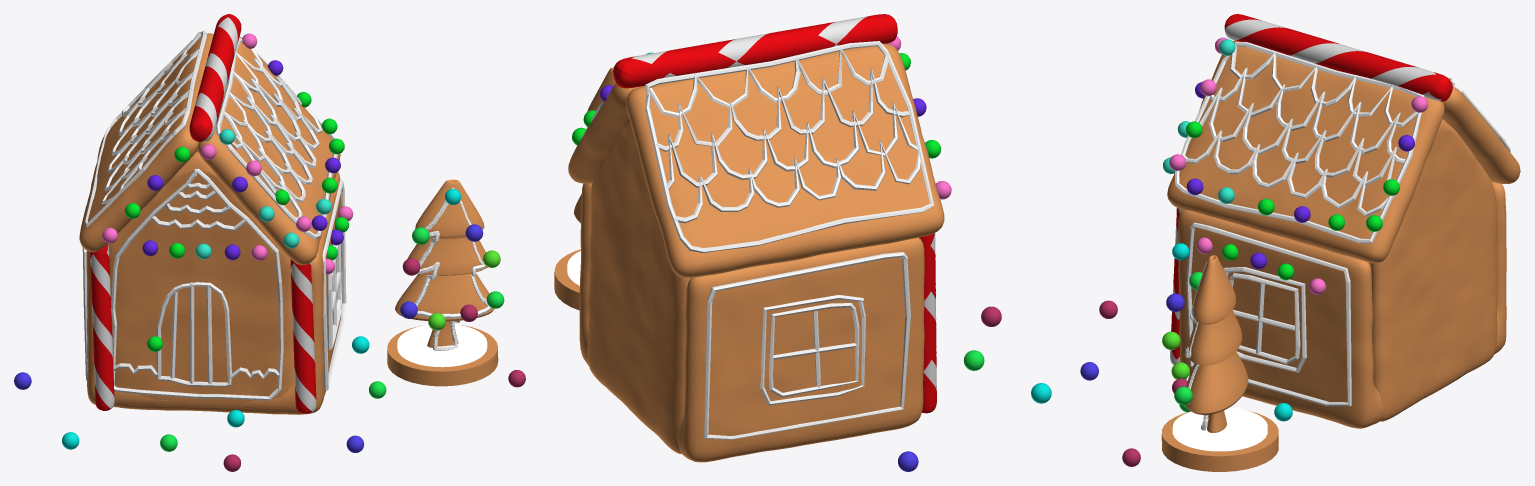
Rendered from ginger.glb.
3 renders of one model, left to right at view 1: azimuth 30°, elevation 25°; view 2: azimuth 150°, elevation 25°; view 3: azimuth 270°, elevation 25°, orthographic. The views are drawn at different scales.
Parts seen in each view (by area): view 1: Cube.005, Simple_GP_Layer.002, Vert, Cylinder, Cylinder.001, Cylinder.002, Cylinder.003, Cylinder.004, Roundcube.020, GP_Layer, Roundcube.007, Roundcube.004 (+5 smaller); view 2: Cube.005, Simple_GP_Layer.002, Cylinder, Cylinder.002, Cylinder.003, Roundcube.020, Vert; view 3: Cube.005, Simple_GP_Layer.002, Vert, Cylinder, Cylinder.003, Cylinder.004, Roundcube.020, Roundcube.004, Roundcube.007, Roundcube.023, Roundcube.010, Cylinder.001 (+5 smaller).
Part boxes in pixels (bbox=[...]): Cube.005: bbox=[79, 33, 342, 414]; Simple_GP_Layer.002: bbox=[82, 30, 346, 400]; Vert: bbox=[395, 179, 494, 347]; Cylinder: bbox=[189, 14, 241, 142]; Cylinder.001: bbox=[290, 259, 316, 413]; Cylinder.002: bbox=[90, 244, 114, 410]; Cylinder.003: bbox=[387, 325, 498, 386]; Cylinder.004: bbox=[397, 324, 487, 367]; Roundcube.020: bbox=[125, 92, 349, 260]; GP_Layer: bbox=[414, 187, 490, 350]; Roundcube.007: bbox=[142, 60, 343, 260]; Roundcube.004: bbox=[102, 33, 353, 274]; Cube.005: bbox=[568, 43, 944, 462]; Simple_GP_Layer.002: bbox=[574, 41, 934, 439]; Cylinder: bbox=[613, 14, 897, 88]; Cylinder.002: bbox=[919, 233, 936, 413]; Cylinder.003: bbox=[554, 249, 580, 310]; Roundcube.020: bbox=[572, 53, 941, 158]; Vert: bbox=[574, 67, 615, 223]; Cube.005: bbox=[1167, 40, 1520, 428]; Simple_GP_Layer.002: bbox=[1175, 42, 1510, 406]; Vert: bbox=[1185, 255, 1248, 432]; Cylinder: bbox=[1224, 14, 1452, 101]; Cylinder.003: bbox=[1161, 410, 1278, 471]; Cylinder.004: bbox=[1172, 407, 1267, 451]; Roundcube.020: bbox=[1186, 121, 1399, 280]; Roundcube.004: bbox=[1169, 37, 1427, 294]; Roundcube.007: bbox=[1186, 82, 1414, 269]; Roundcube.023: bbox=[1163, 39, 1235, 203]; Roundcube.010: bbox=[1099, 300, 1187, 466]; Cylinder.001: bbox=[1170, 208, 1182, 364].
Bounding box in the file's own units: 4.9 × 3.42 × 4.2.
